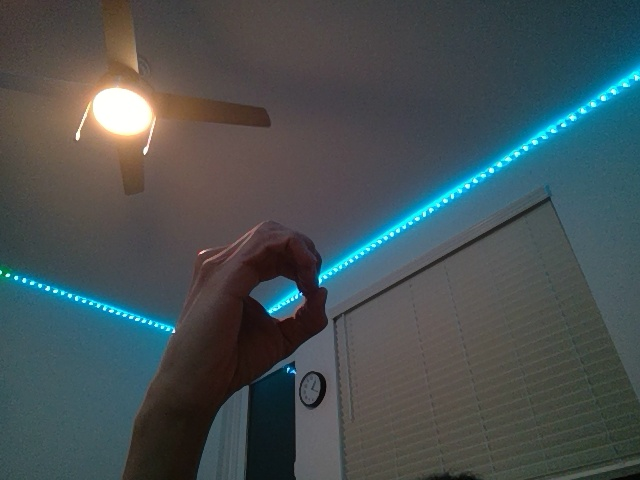o: (155, 217, 331, 427)
